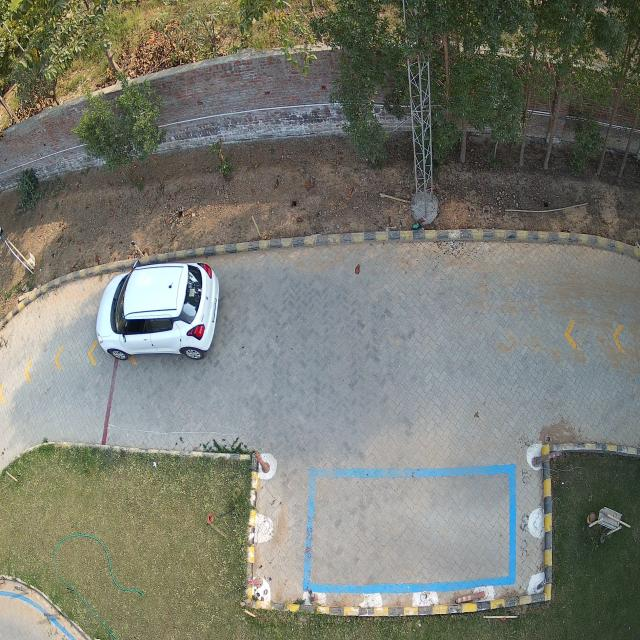car: (96, 261, 220, 361)
